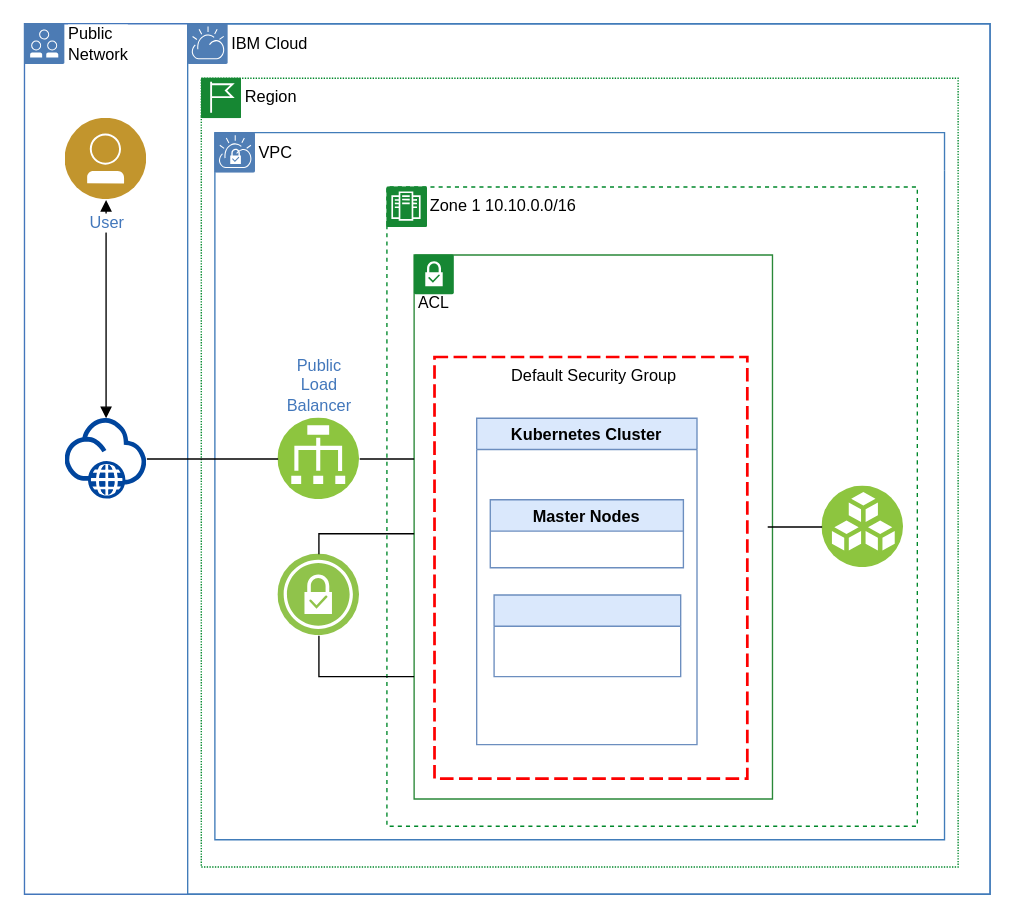
Image size: 1013x918. Some labels were removed from this diagram. Here are the shapes that lost their labels. From the top down, the box of each, then its label:
(65, 418, 146, 499): Internet
(413, 254, 772, 799): Subnet 10.10.10.0/24
(821, 486, 903, 567): Block Storage
(277, 554, 359, 635): Virtual Private Endpoint Gateway
(493, 594, 681, 677): Default Worker Pool
